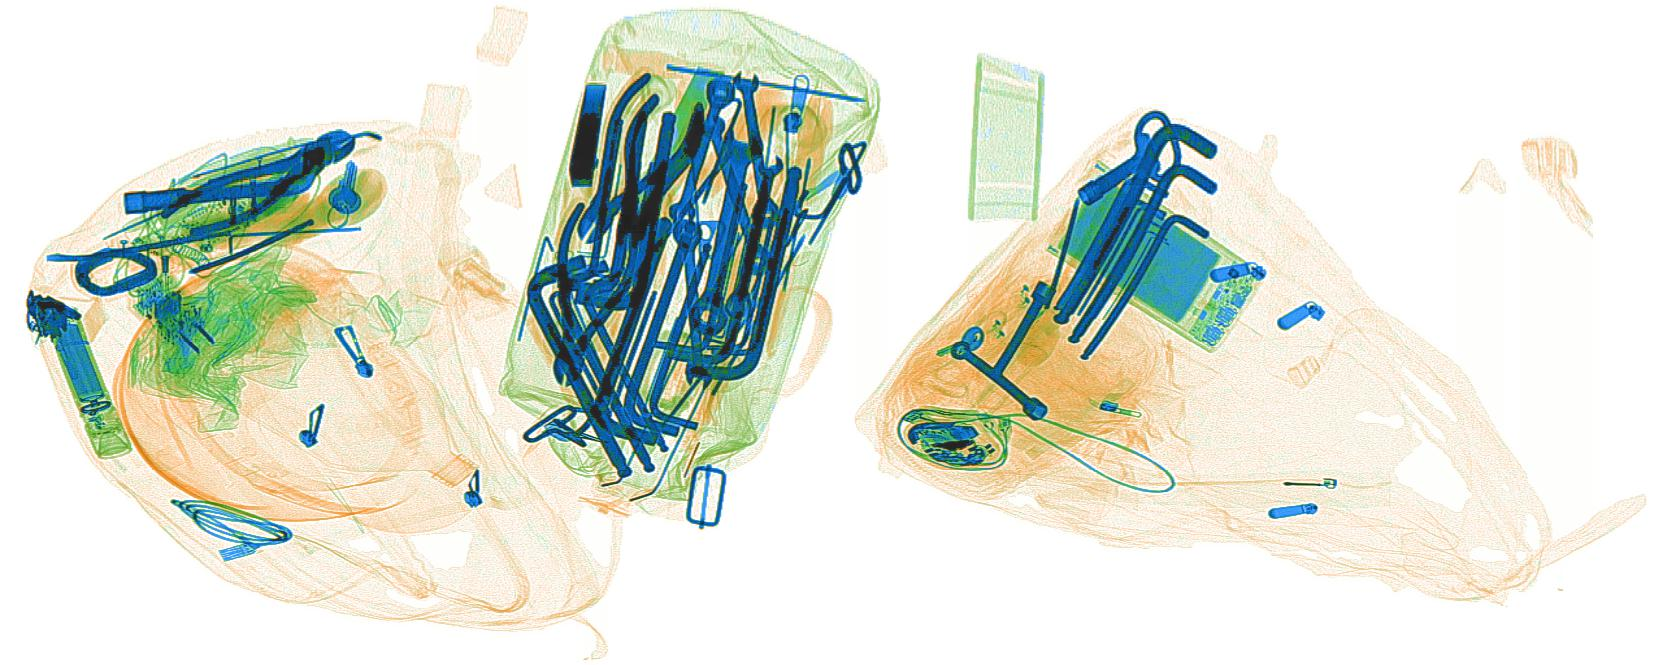battery: (54, 322, 105, 405)
